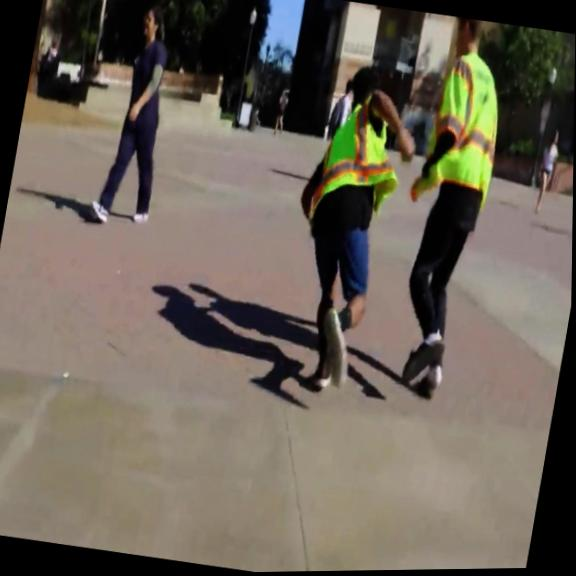safety_vest: (409, 45, 512, 213), (308, 83, 413, 231)
